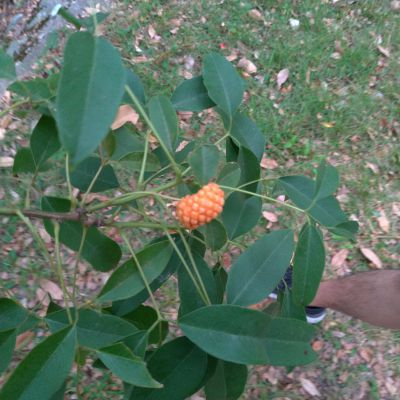eggs: (174, 180, 231, 228)
